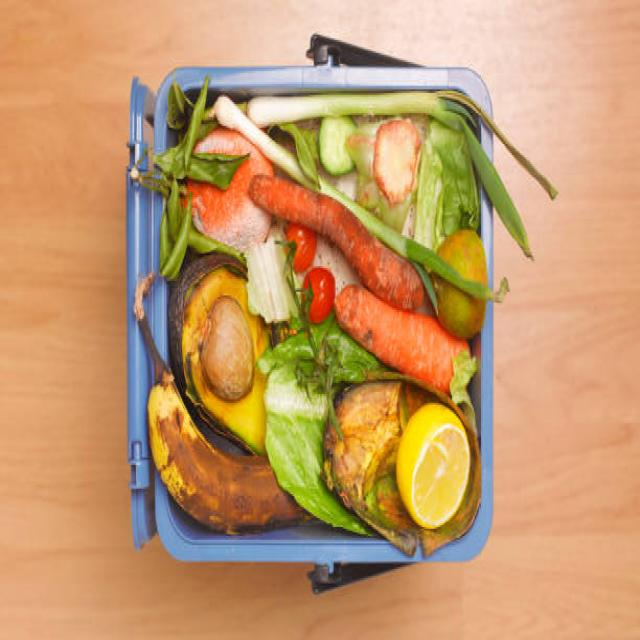paper: (248, 147, 426, 292), (144, 365, 287, 523), (167, 259, 269, 439), (336, 278, 480, 386), (405, 396, 487, 524), (296, 272, 338, 324), (282, 217, 312, 266)
